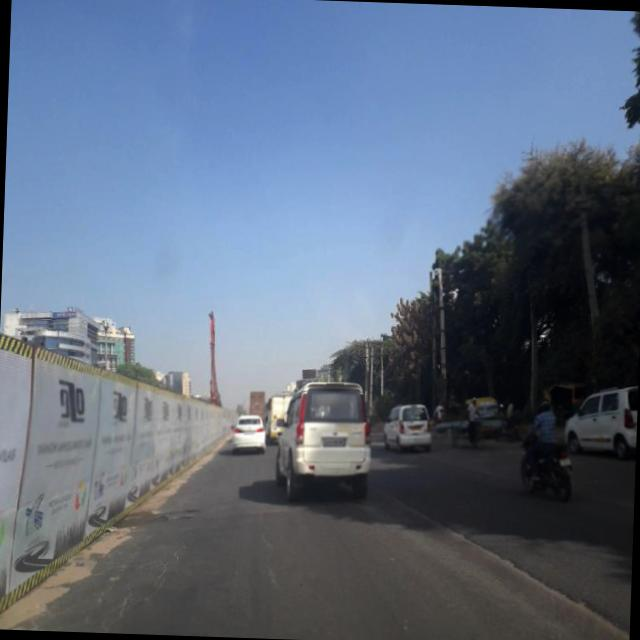pothole: (388, 494, 624, 631), (112, 515, 192, 635), (246, 494, 282, 595)
